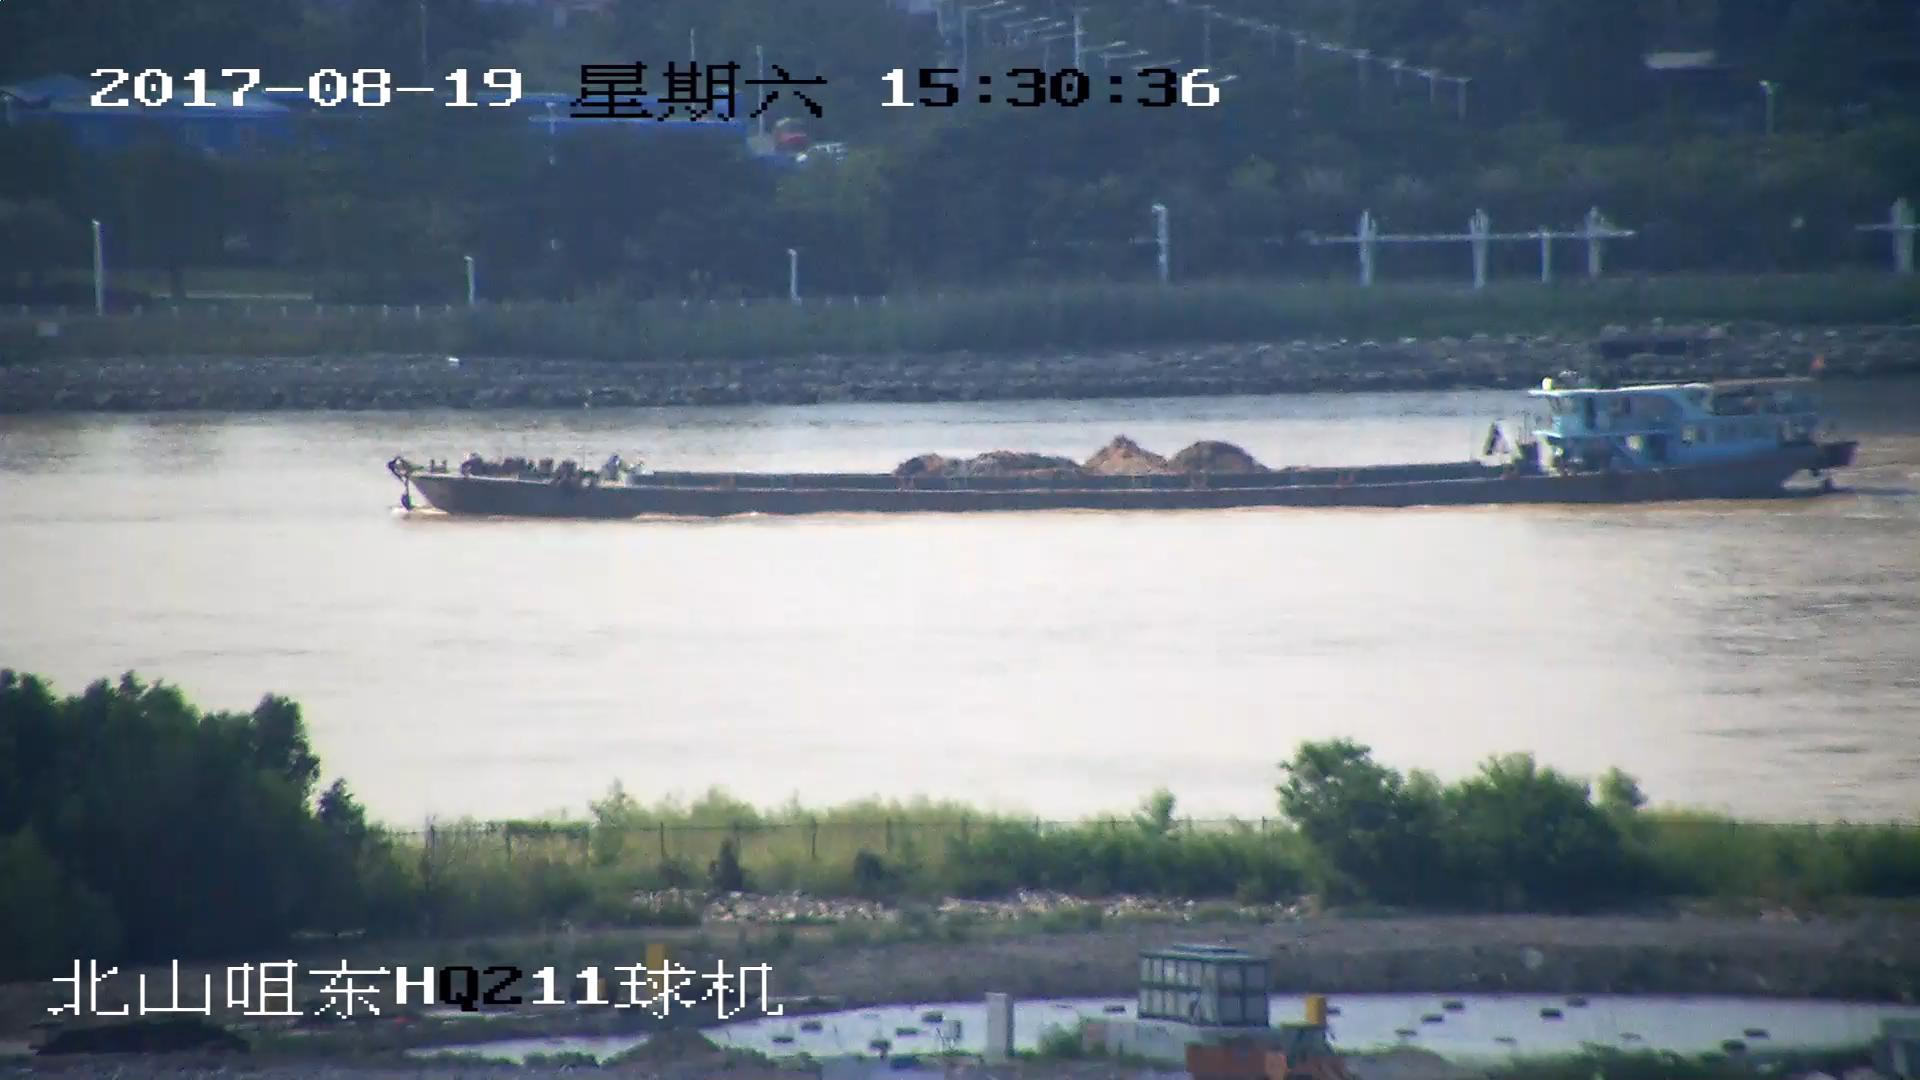Ship: (392, 376, 1859, 524)
